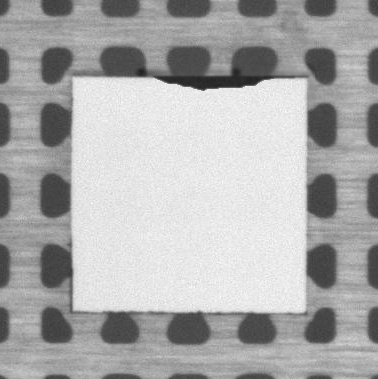DIE_BROKEN: (153, 73, 290, 93)
